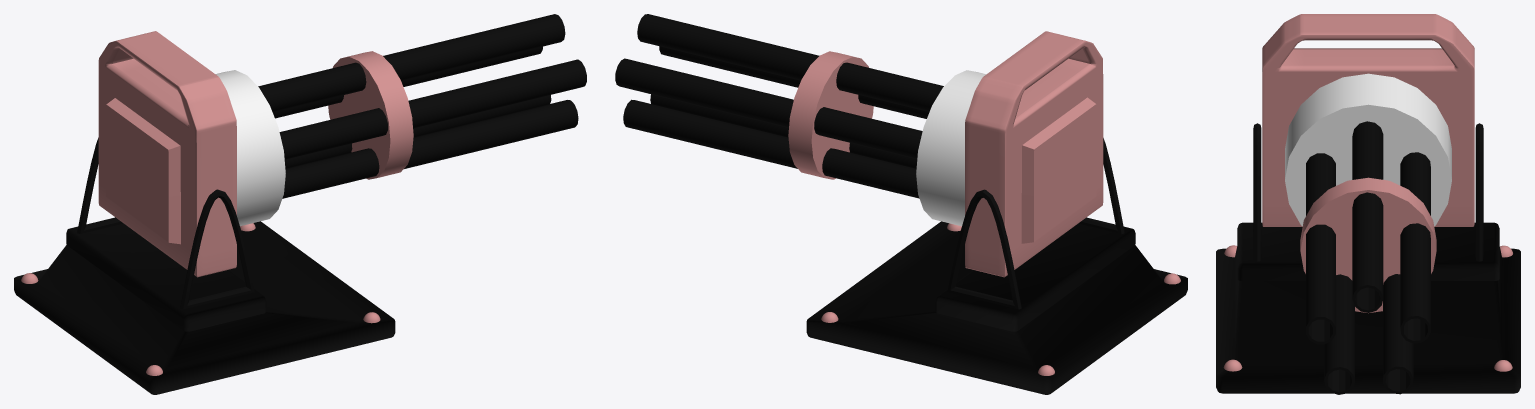
File: Tanker3.FBX
The picture shows the model from 3 angles, left to right: view 1: azimuth 30°, elevation 25°; view 2: azimuth 150°, elevation 25°; view 3: azimuth 270°, elevation 25°; orthographic projection. The views are drawn at different scales.
Parts seen in each view (by area): view 1: Line001, Cylinder003, Box001, Cylinder001, Cylinder007, Sphere003; view 2: Line001, Cylinder003, Box001, Cylinder001, Cylinder007, Sphere003; view 3: Line001, Box001, Cylinder003, Cylinder001, Cylinder007, Sphere003.
Boxes of the visible parts, x1,y1,x2,y2 form: Line001: (14,137,395,394); Cylinder003: (258,14,586,198); Box001: (98,31,236,277); Cylinder001: (215,70,285,226); Cylinder007: (328,51,413,179); Sphere003: (21,223,380,375); Line001: (806,138,1187,394); Cylinder003: (615,14,943,198); Box001: (965,31,1103,277); Cylinder001: (916,70,985,226); Cylinder007: (788,51,873,179); Sphere003: (821,223,1180,375); Line001: (1216,123,1520,393); Box001: (1262,14,1474,226); Cylinder003: (1306,121,1430,394); Cylinder001: (1285,73,1451,226); Cylinder007: (1300,177,1436,313); Sphere003: (1223,245,1512,371).
Size of the model in its own units: 76.29 by 40.92 by 39.24.
